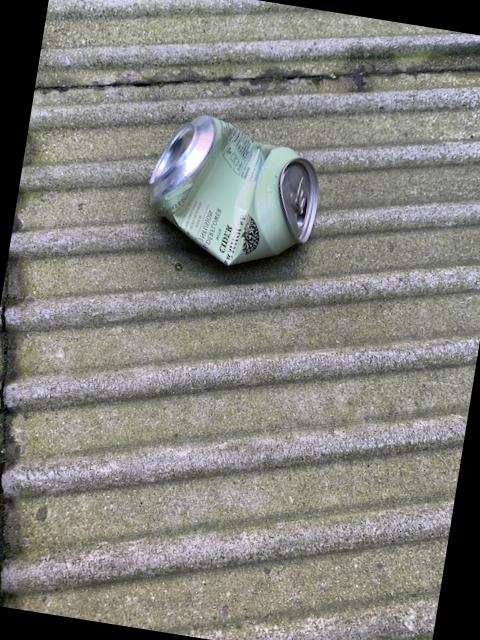metal: (151, 113, 319, 262)
